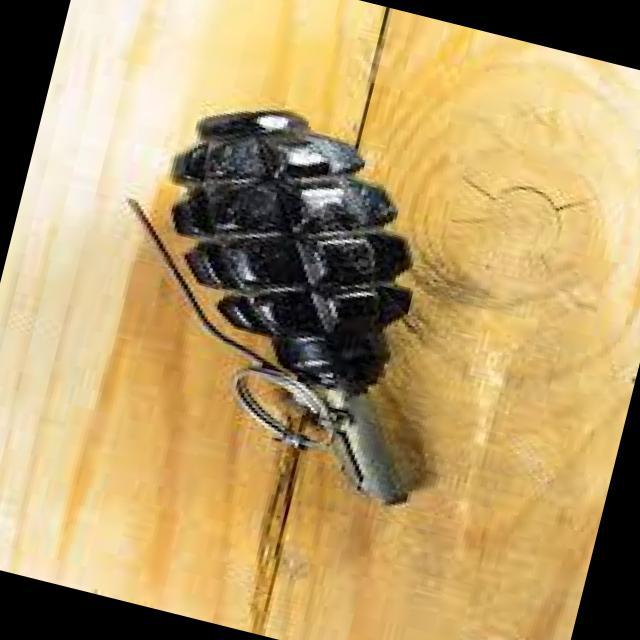grenade: (116, 94, 494, 512)
